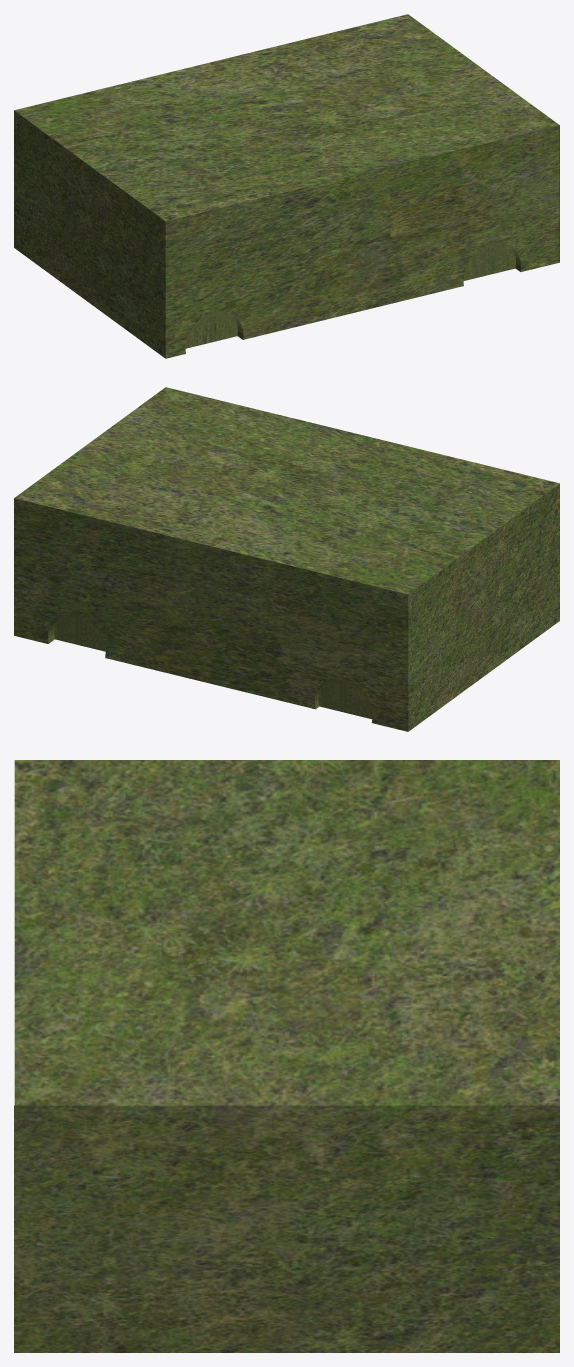
3 renders of one model, top to bottom at view 1: azimuth 30°, elevation 25°; view 2: azimuth 150°, elevation 25°; view 3: azimuth 270°, elevation 25°, orthographic. The views are drawn at different scales.
Visible parts, largest first — view 1: base_link; view 2: base_link; view 3: base_link.
Part boxes in pixels (x1,y1,x2,y2): base_link: [14, 14, 559, 358]; base_link: [14, 387, 559, 731]; base_link: [14, 760, 559, 1352].
Size of the model in its own units: 1.2 by 0.801 by 0.4.
